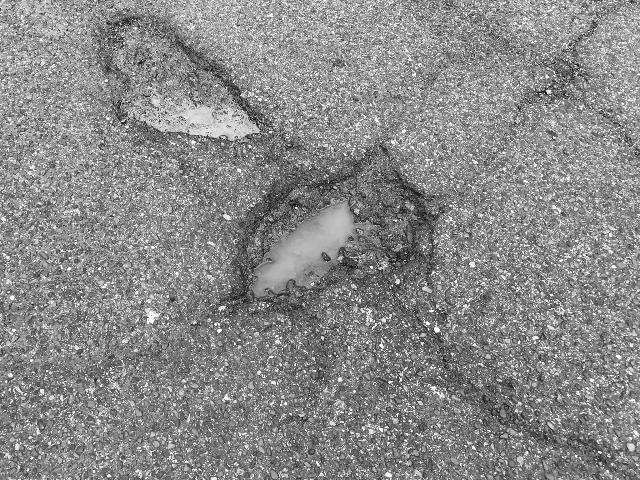Pothole: (213, 136, 444, 319), (85, 9, 277, 154)
